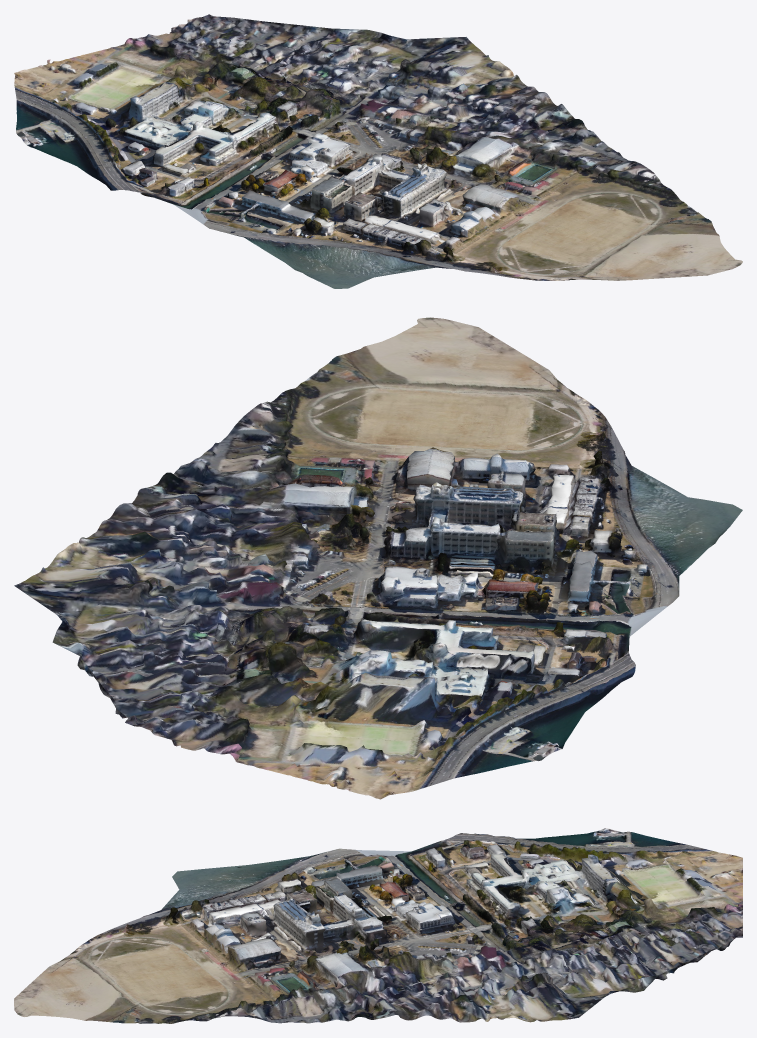
Rendered from oshima-kosen.glb.
3 views of the same model, one above another, from view 1: azimuth 30°, elevation 25°; view 2: azimuth 150°, elevation 25°; view 3: azimuth 270°, elevation 25° (orthographic). The views are drawn at different scales.
Parts seen in each view (by area): view 1: baked_mesh; view 2: baked_mesh; view 3: baked_mesh.
Part boxes in pixels (x1,y1,x2,y2): baked_mesh: [14, 14, 742, 288]; baked_mesh: [14, 317, 742, 799]; baked_mesh: [14, 828, 742, 1023].
Bounding box in the file's own units: 373 × 28.99 × 578.
Materials: 1 (1 with a texture image).
